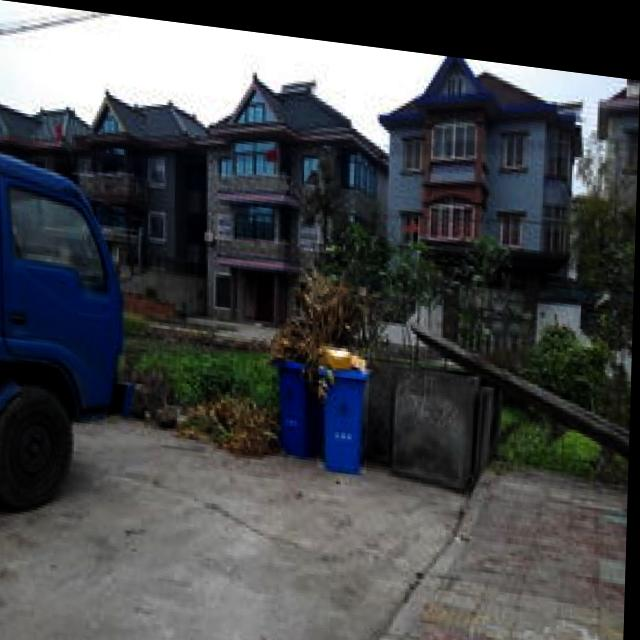garbage_bin: (272, 347, 320, 447)
overflow: (320, 334, 372, 464)
